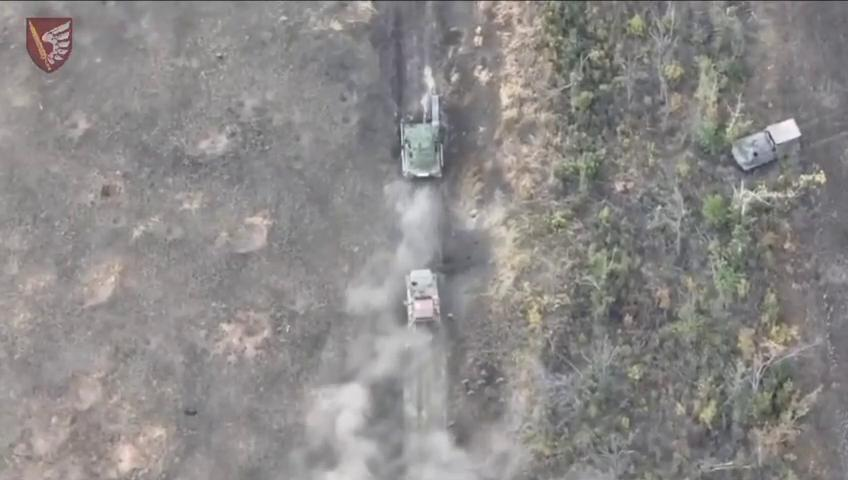tank: (730, 118, 804, 175), (395, 112, 448, 185), (403, 265, 452, 337)
